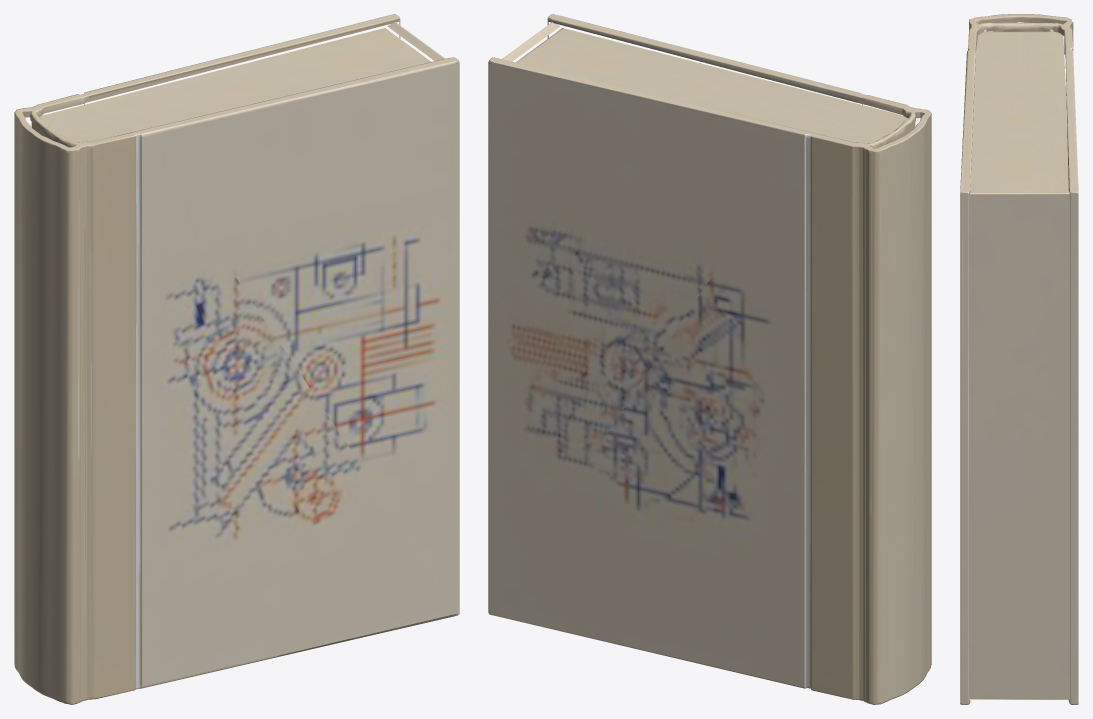
The model's file is origins-of-efficiency.glb.
The picture shows the model from 3 angles, left to right: view 1: azimuth 30°, elevation 25°; view 2: azimuth 150°, elevation 25°; view 3: azimuth 270°, elevation 25°; orthographic projection. The views are drawn at different scales.
Parts seen in each view (by area): view 1: The Origins of Efficiency; view 2: The Origins of Efficiency; view 3: The Origins of Efficiency.
Boxes of the visible parts, <box> form: The Origins of Efficiency: <box>14,14,459,704</box>; The Origins of Efficiency: <box>488,14,931,704</box>; The Origins of Efficiency: <box>960,14,1078,704</box>.
Bounding box in the file's own units: 0.7441 × 0.998 × 0.209.
Materials: 1 (1 with a texture image).
